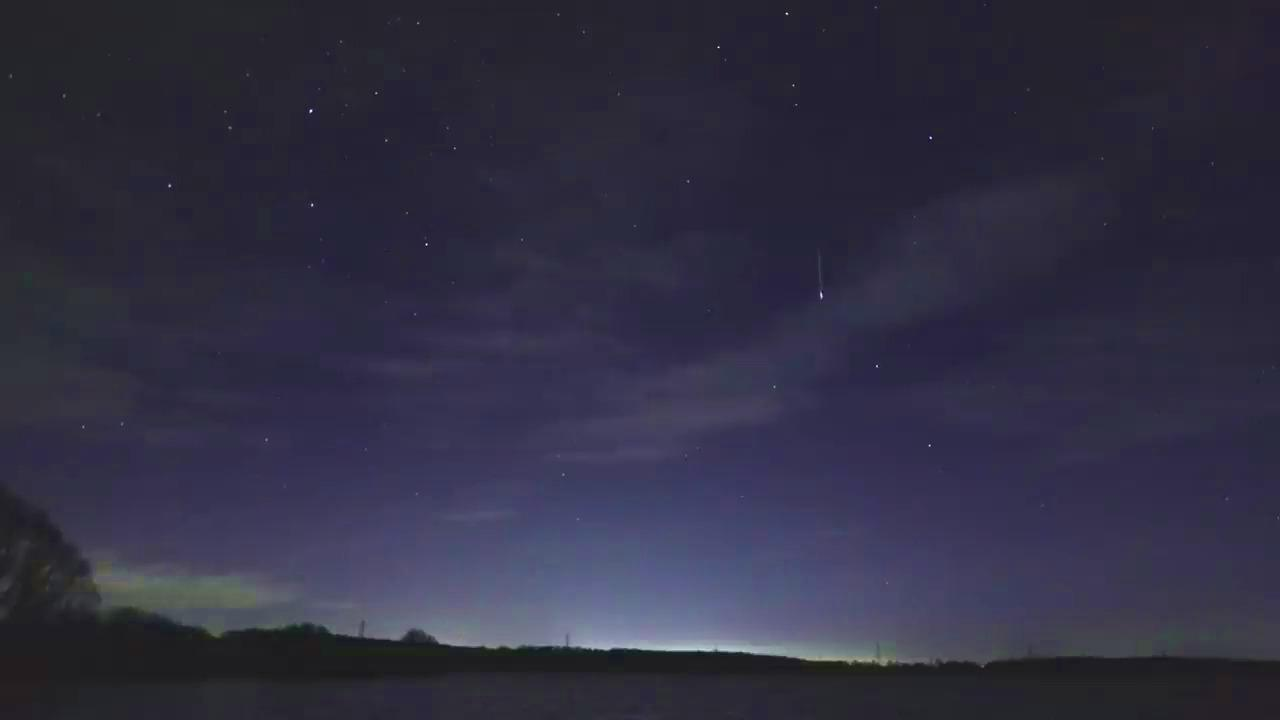meteorite: (785, 246, 851, 311)
